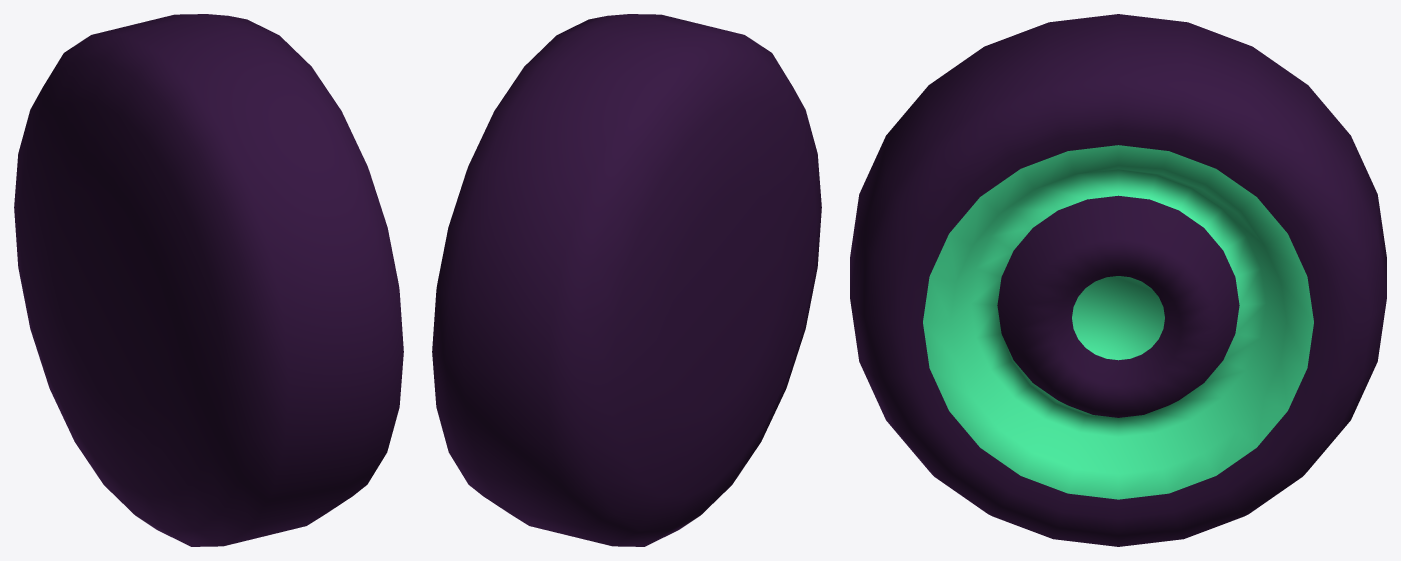
File: wheel.fbx
The picture shows the model from 3 angles, left to right: view 1: azimuth 30°, elevation 25°; view 2: azimuth 150°, elevation 25°; view 3: azimuth 270°, elevation 25°; orthographic projection.
Visible parts, largest first — view 1: wheel; view 2: wheel; view 3: wheel.
Part boxes in pixels (<box>): wheel: <box>14,14,403,546</box>; wheel: <box>432,14,821,546</box>; wheel: <box>850,14,1386,546</box>.
Bounding box in the file's own units: 10.91 × 26.34 × 26.34.
